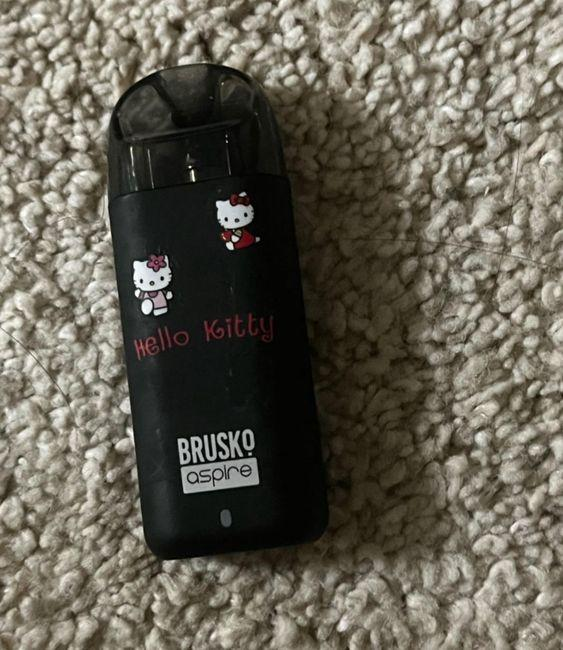Vape: (107, 64, 327, 559)
